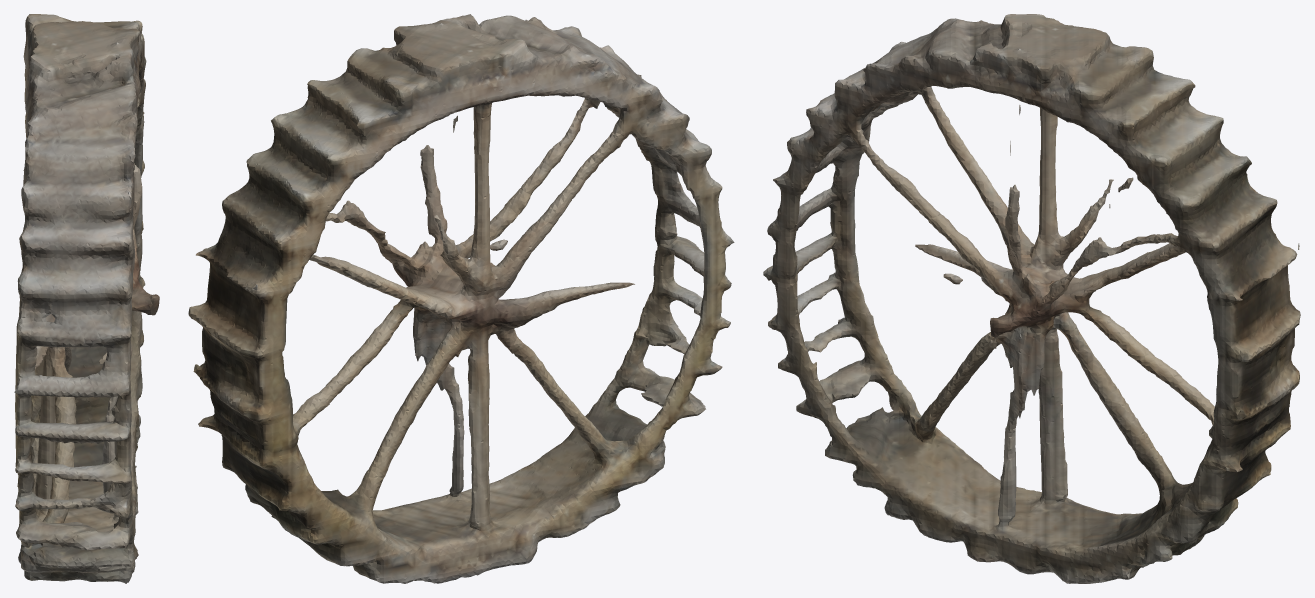
The model's file is nora-wheel.glb.
3 renders of one model, left to right at view 1: azimuth 30°, elevation 25°; view 2: azimuth 150°, elevation 25°; view 3: azimuth 270°, elevation 25°, orthographic. The views are drawn at different scales.
Parts seen in each view (by area): view 1: world; view 2: world; view 3: world.
Boxes of the visible parts, x1=… form: world: x1=14, y1=14, x2=159, y2=583; world: x1=188, y1=14, x2=734, y2=583; world: x1=763, y1=14, x2=1300, y2=583.
Bounding box in the file's own units: 1.36 × 1.99 × 1.86.
